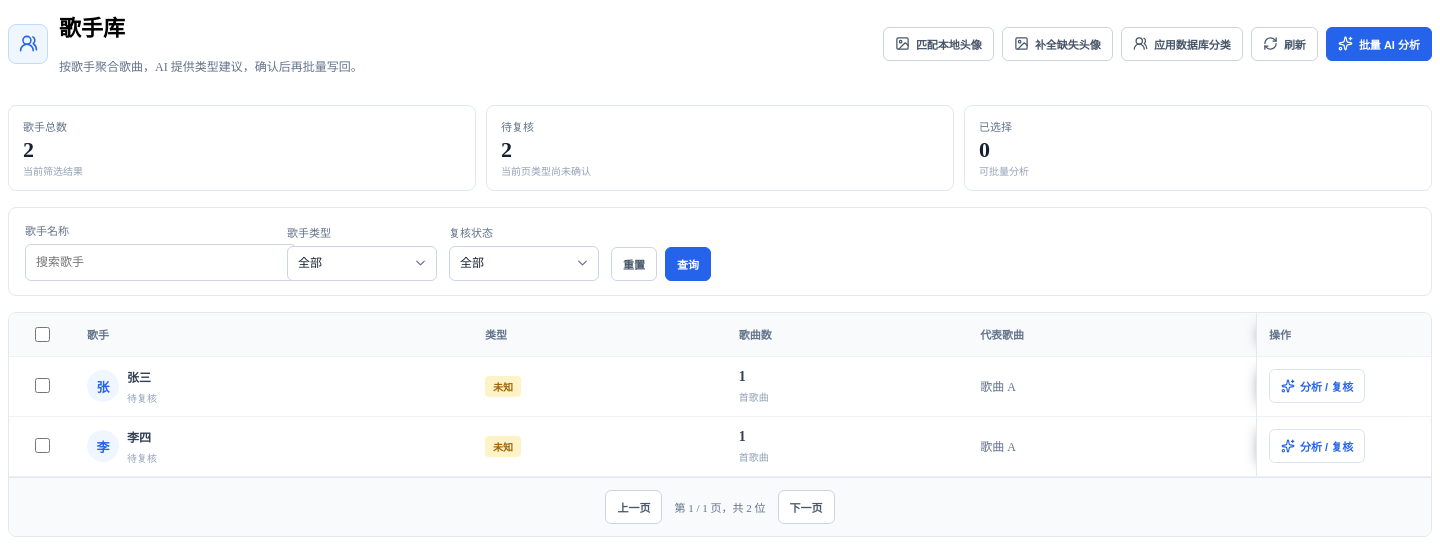
Test: ArtistLibraryView › selects and clears the full page while keeping the header checkbox synchronized
Click the checkbox named "全选当前歌手": point(42, 334) [35,327,50,342]
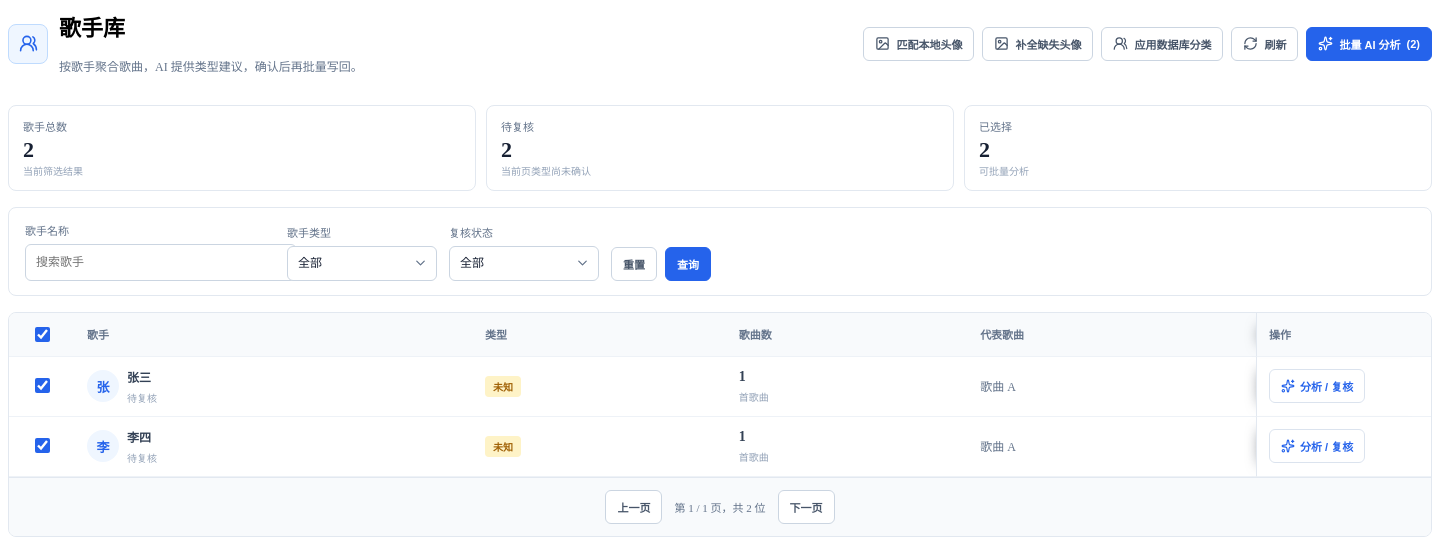
Check: the checkbox named "全选当前歌手" is checked, box [35,327,50,342]
Check: the text "2" below "已选择" is shown, box [979,137,990,162]
Click the checkbox named "选择 张三": point(42, 386) [35,378,50,393]
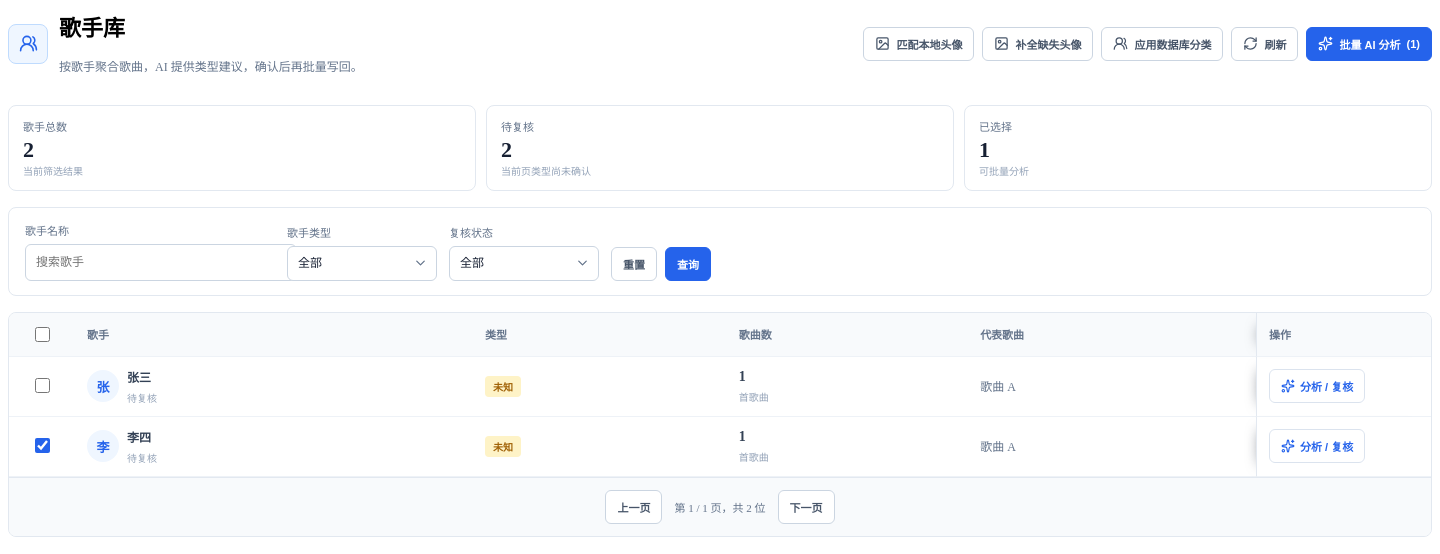
Check: the checkbox named "全选当前歌手" is not checked
Check: the text "1" below "已选择" is shown, box [979,137,990,162]
Click the checkbox named "全选当前歌手": point(42, 334) [35,327,50,342]
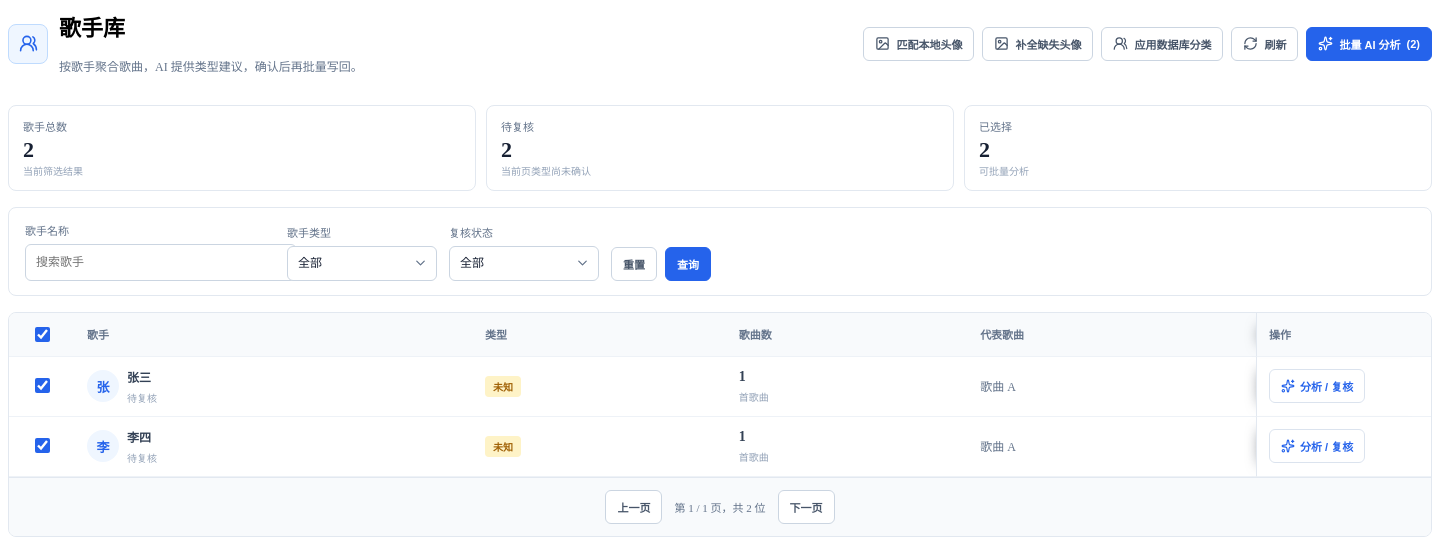
Check: the checkbox named "全选当前歌手" is checked
Click the checkbox named "全选当前歌手": point(42, 334) [35,327,50,342]
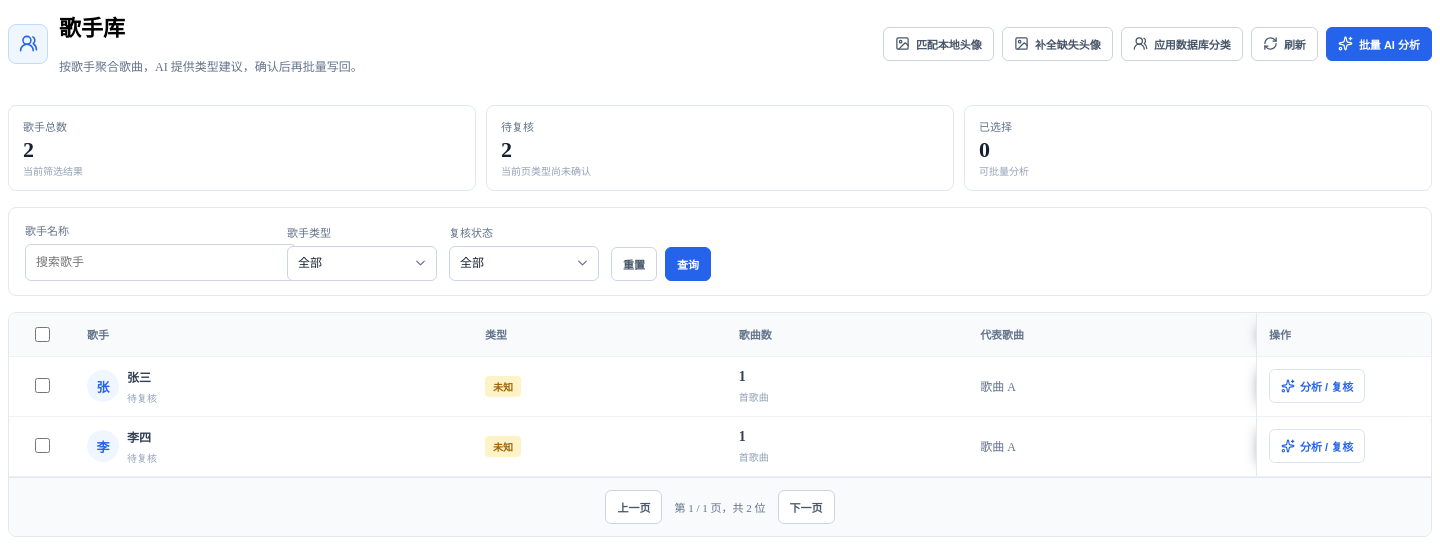
Check: the checkbox named "全选当前歌手" is not checked, box [35,327,50,342]
Check: the text "0" is shown, box [979,137,990,162]
